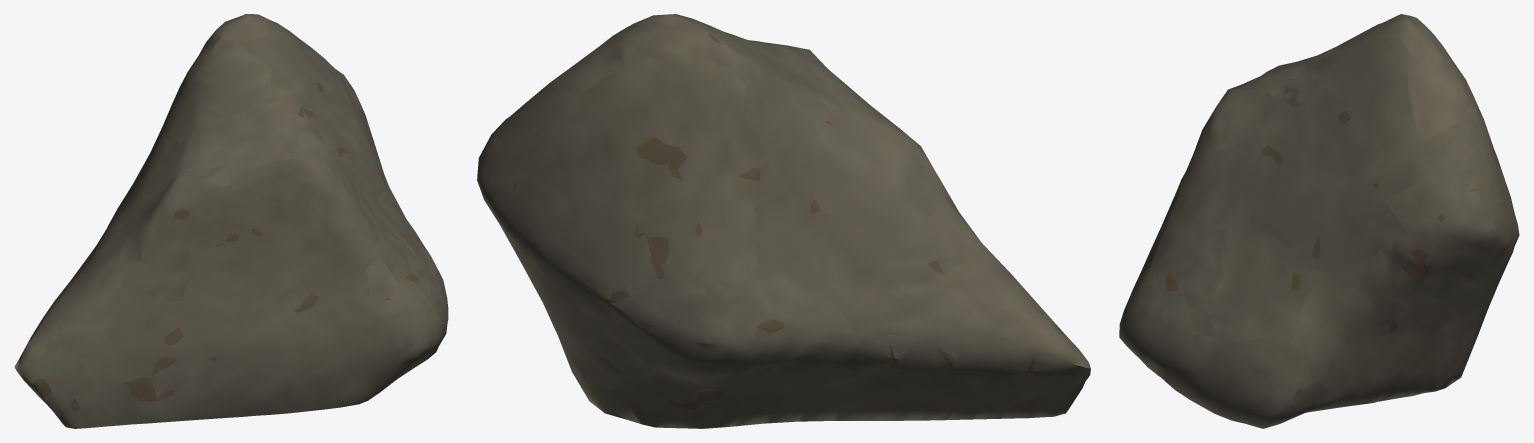
The model's file is corealm_ore_kilnstone.glb.
The picture shows the model from 3 angles, left to right: view 1: azimuth 30°, elevation 25°; view 2: azimuth 150°, elevation 25°; view 3: azimuth 270°, elevation 25°; orthographic projection. The views are drawn at different scales.
Visible parts, largest first — view 1: corealm_ore_kilnstone; view 2: corealm_ore_kilnstone; view 3: corealm_ore_kilnstone.
Boxes of the visible parts, x1,y1,x2,y2 form: corealm_ore_kilnstone: [14, 14, 448, 428]; corealm_ore_kilnstone: [477, 14, 1090, 428]; corealm_ore_kilnstone: [1119, 14, 1519, 428].
Bounding box in the file's own units: 2.6 × 1.8 × 1.9.
2 materials, 2 textured.
